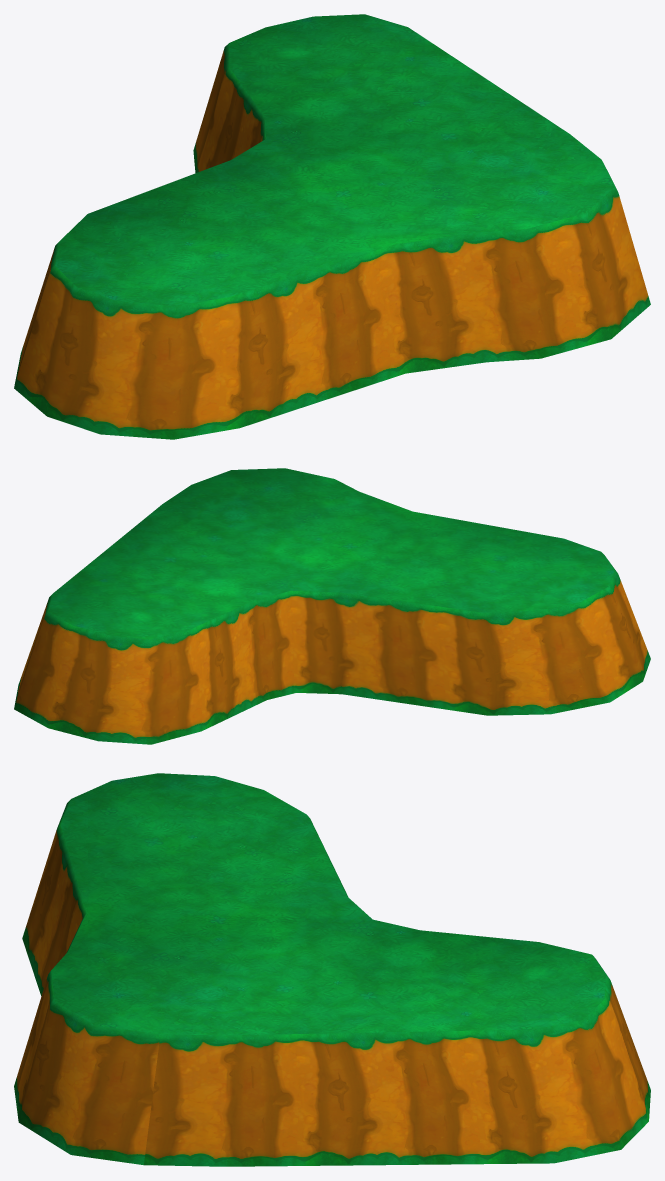
File: Hill01_e01.FBX
The picture shows the model from 3 angles, top to bottom: view 1: azimuth 30°, elevation 25°; view 2: azimuth 150°, elevation 25°; view 3: azimuth 270°, elevation 25°; orthographic projection. The views are drawn at different scales.
Visible parts, largest first — view 1: Hill01_e01; view 2: Hill01_e01; view 3: Hill01_e01.
Part boxes in pixels (bbox=[...]): Hill01_e01: bbox=[14, 14, 650, 439]; Hill01_e01: bbox=[14, 468, 650, 744]; Hill01_e01: bbox=[14, 773, 650, 1166].
Bounding box in the file's own units: 1372 × 256 × 1255.
Materials: 2 (2 with a texture image).
